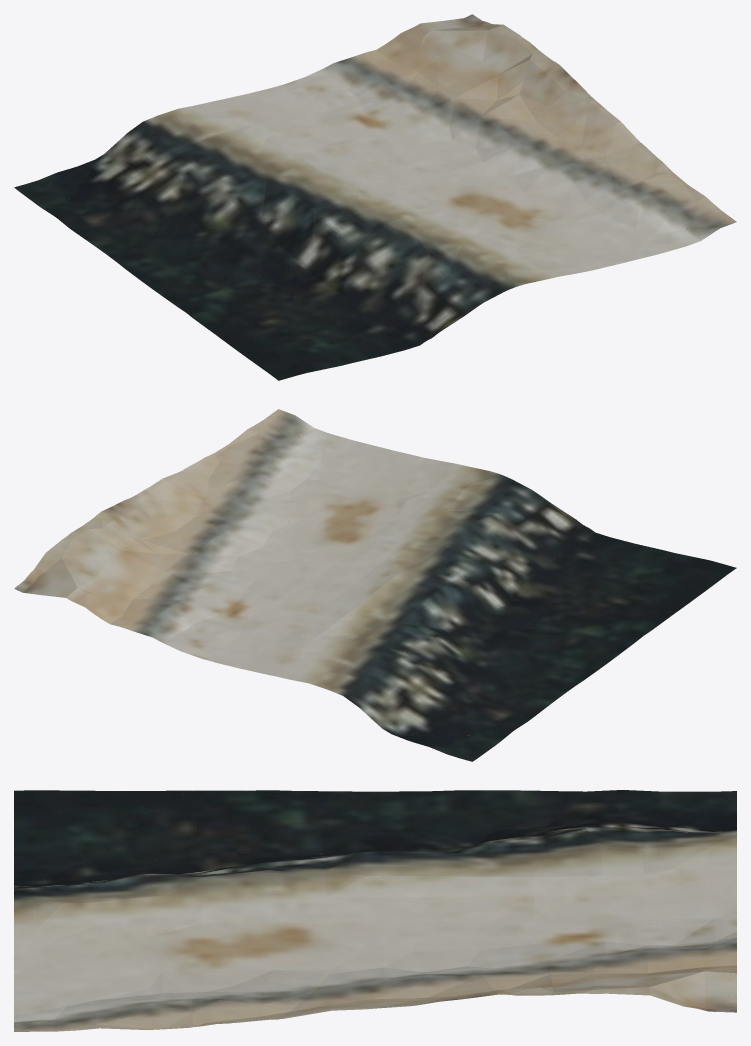
3 views of the same model, one above another, from view 1: azimuth 30°, elevation 25°; view 2: azimuth 150°, elevation 25°; view 3: azimuth 270°, elevation 25° (orthographic). The views are drawn at different scales.
Size of the model in its own units: 52.22 by 8.29 by 52.22.
3 materials, 3 textured.
